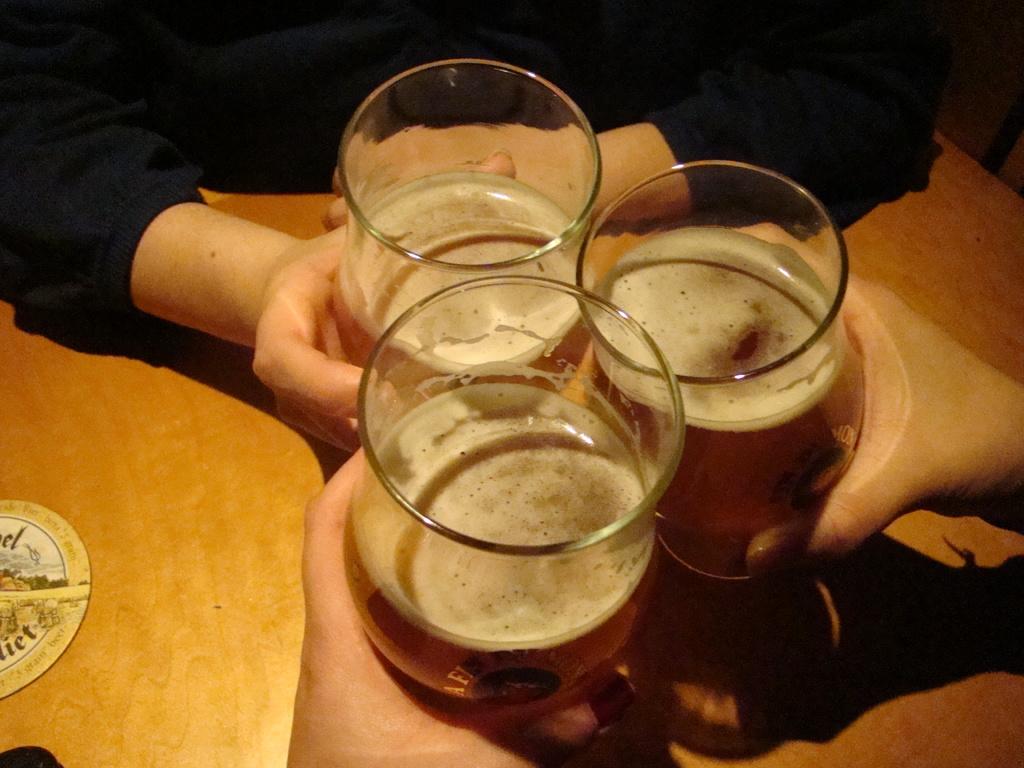Beer: (330, 174, 865, 706), (336, 382, 655, 696), (595, 230, 863, 577), (341, 174, 572, 380)
